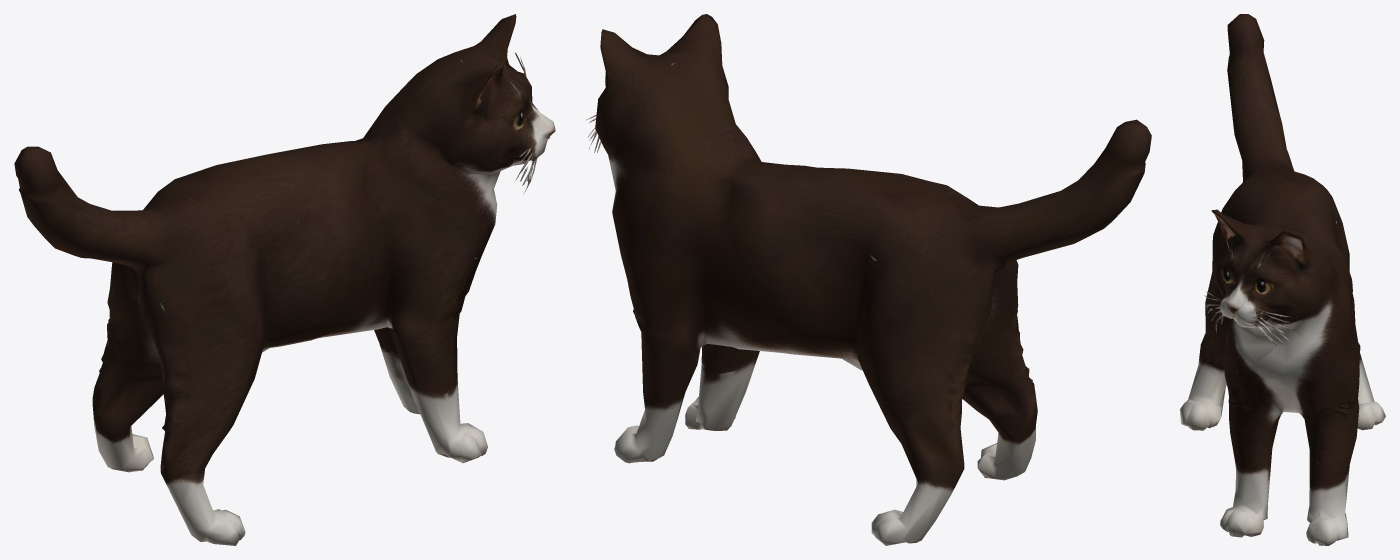
File: CURFEWPAW-lo.glb
3 views of the same model, side by side, from view 1: azimuth 30°, elevation 25°; view 2: azimuth 150°, elevation 25°; view 3: azimuth 270°, elevation 25° (orthographic). The views are drawn at different scales.
Parts seen in each view (by area): view 1: tripo_node_43c350a6-f527-4787-a3e0-c8193e1c272c; view 2: tripo_node_43c350a6-f527-4787-a3e0-c8193e1c272c; view 3: tripo_node_43c350a6-f527-4787-a3e0-c8193e1c272c.
Boxes of the visible parts, bbox=[...] form: tripo_node_43c350a6-f527-4787-a3e0-c8193e1c272c: bbox=[14, 14, 555, 545]; tripo_node_43c350a6-f527-4787-a3e0-c8193e1c272c: bbox=[585, 14, 1151, 545]; tripo_node_43c350a6-f527-4787-a3e0-c8193e1c272c: bbox=[1180, 14, 1385, 545].
Size of the model in its own units: 1.37 by 0.9987 by 0.5427.
1 material, 1 textured.
